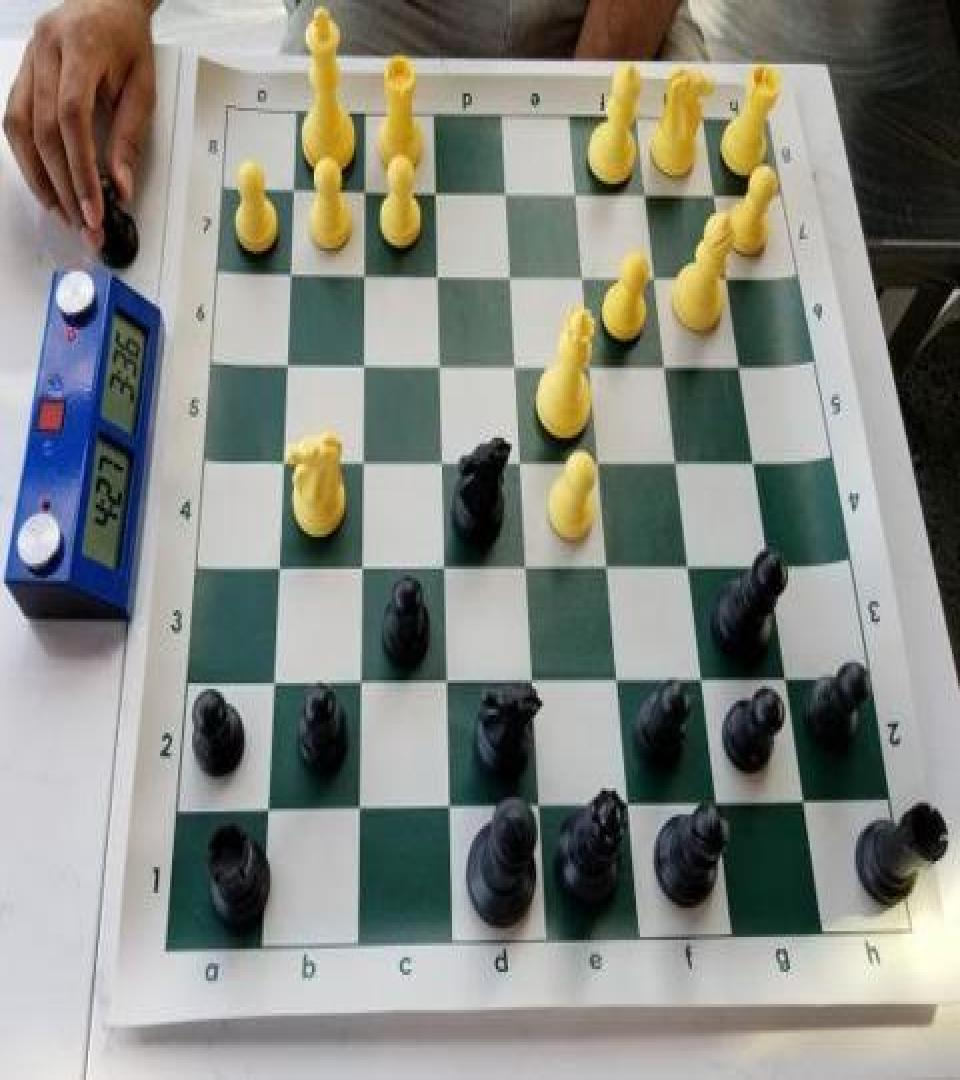xcorner: (702, 782, 726, 818), (615, 782, 639, 818), (569, 258, 593, 294), (427, 344, 451, 380), (348, 786, 372, 822), (352, 344, 376, 380), (279, 252, 303, 288), (788, 781, 812, 816), (770, 658, 794, 693), (737, 444, 761, 479), (723, 349, 747, 384), (710, 262, 734, 297), (697, 181, 721, 216), (688, 658, 712, 693), (674, 546, 698, 581), (662, 444, 686, 479), (650, 349, 674, 384), (639, 260, 663, 295), (594, 546, 618, 581), (585, 442, 609, 477), (561, 177, 585, 212), (514, 546, 538, 581), (508, 442, 532, 477), (502, 346, 526, 381), (497, 257, 521, 292), (493, 175, 517, 210), (438, 785, 462, 820), (432, 546, 456, 581), (430, 441, 454, 476), (349, 661, 373, 696), (350, 546, 374, 581), (351, 441, 375, 476), (353, 254, 377, 289), (353, 172, 377, 207), (257, 788, 281, 823), (262, 661, 286, 696), (267, 546, 291, 581), (272, 440, 296, 475), (276, 343, 300, 378), (283, 171, 307, 206), (753, 548, 777, 582), (630, 180, 654, 214), (604, 660, 628, 694), (577, 348, 601, 382), (527, 784, 551, 818), (520, 660, 544, 694), (435, 660, 459, 694), (425, 256, 449, 290), (423, 174, 447, 208)
